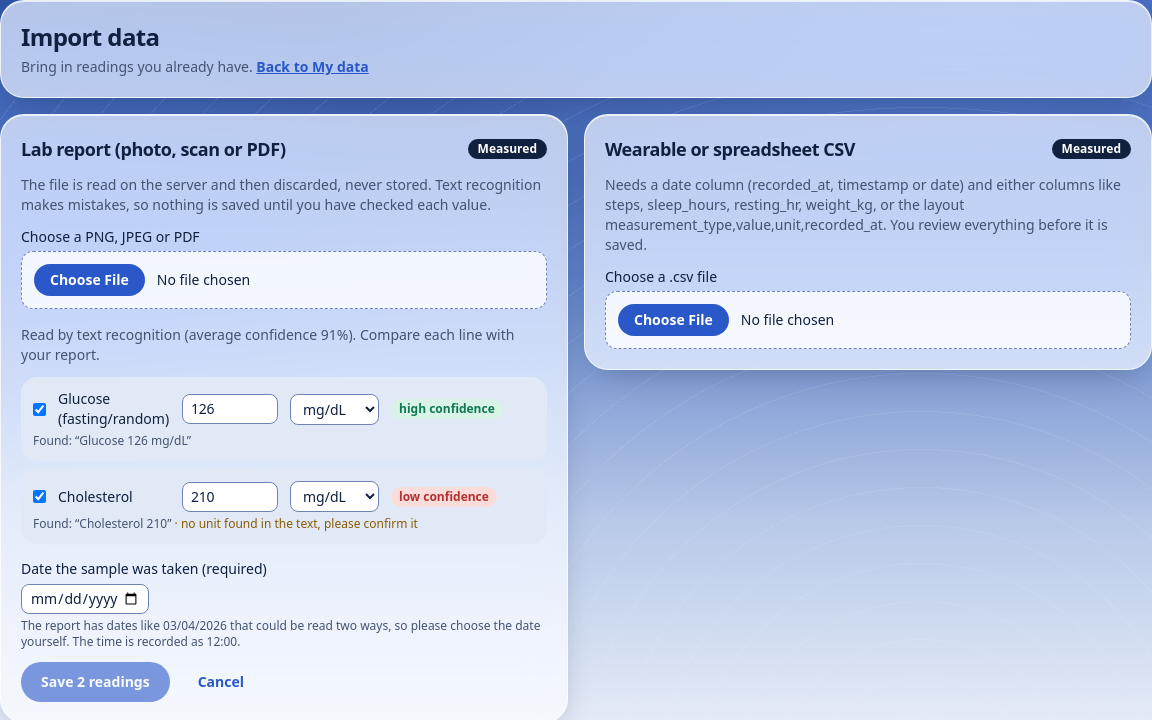
Test: Lab report import › never saves without a date, lets the user correct values, and sends source=ocr
The image size is (1152, 720).
Earlier steps of the test are not shown.
Expected: the text "could be read two ways" is shown, [21,617,540,650]
Expected: the text "· no unit found in the text, please confirm it" is shown, [171,515,418,532]
Type "2026-10-20" into the date field labelled "Date the sample was taken (required)" at [85, 599], box [21,584,149,614]
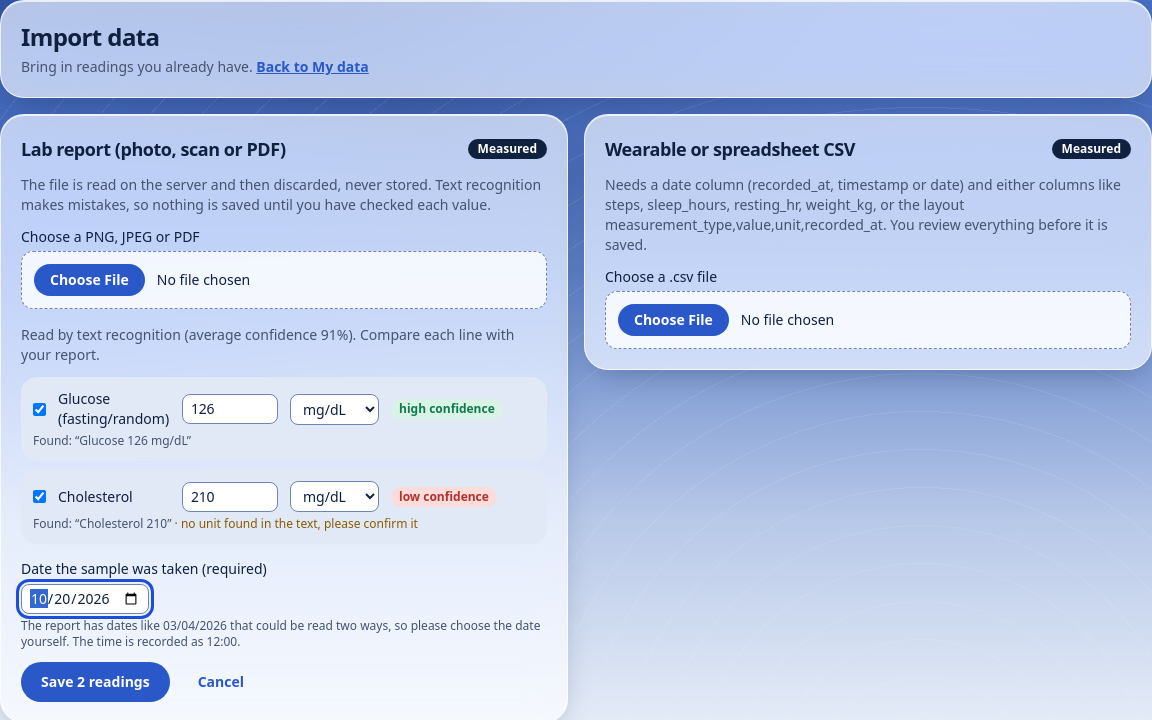
Click the checkbox named "Include Cholesterol" at [40, 496], box [33,490,46,503]
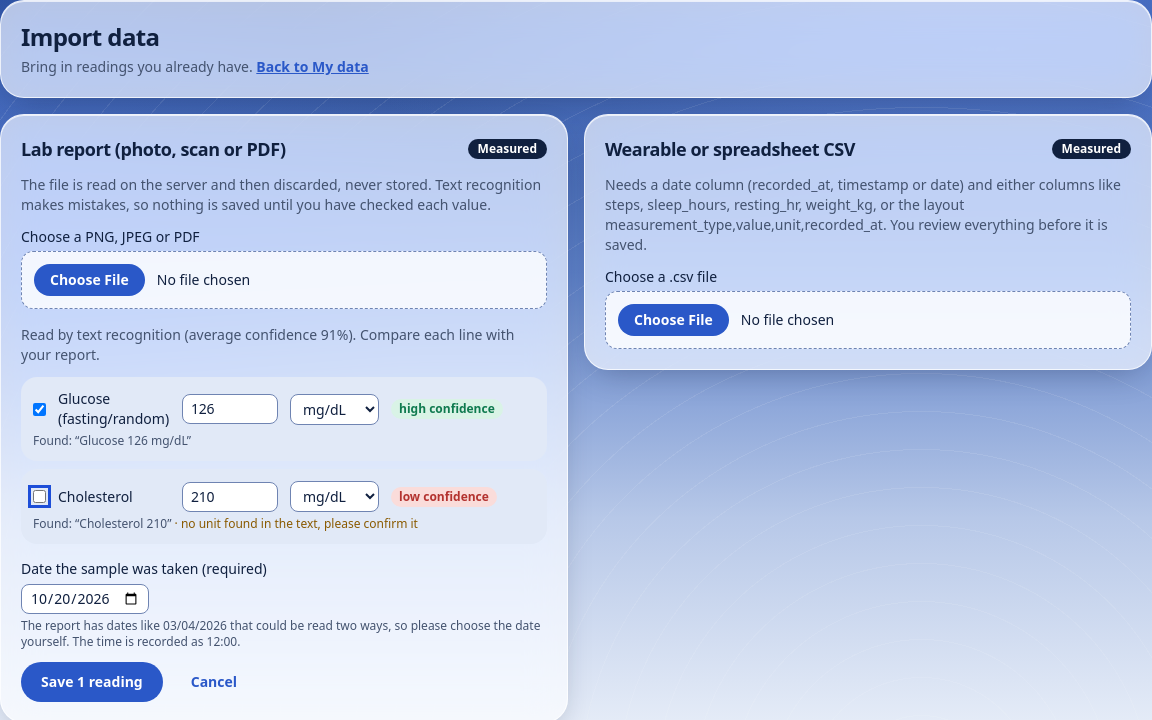
Replace the text in the field named "Glucose (fasting/random) value" with "128" at [230, 409], box [182,394,278,424]
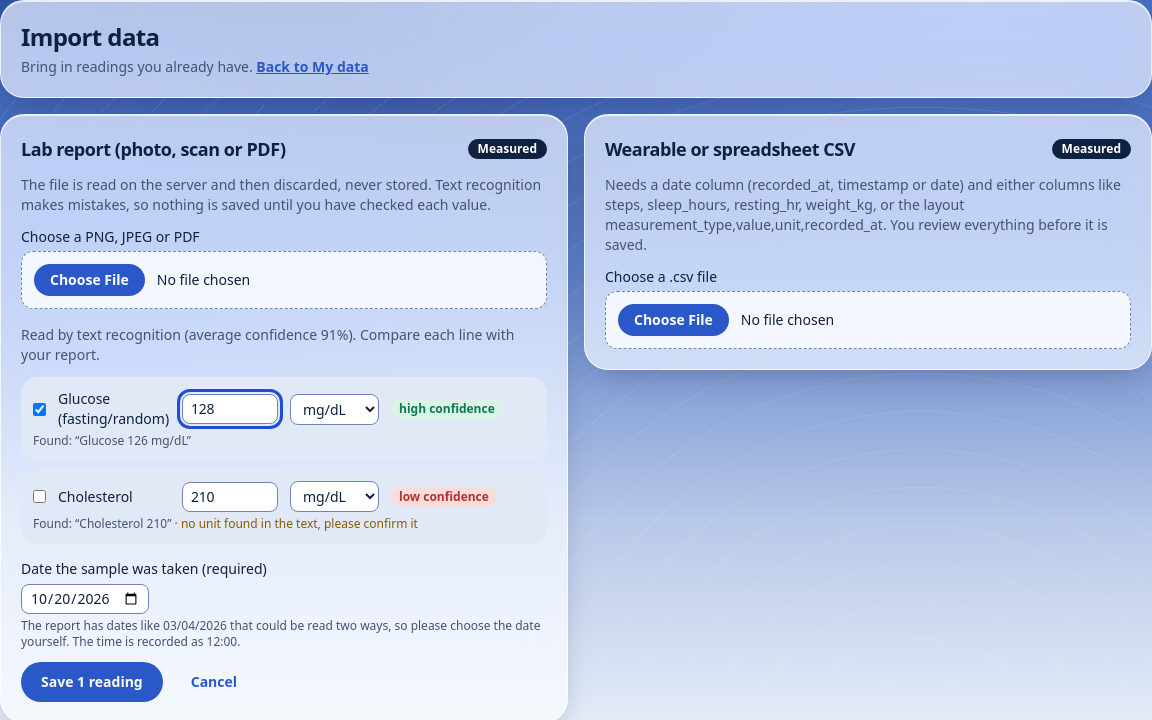
Click the button "Save 1 reading" at [92, 682], box [21,662,163,702]
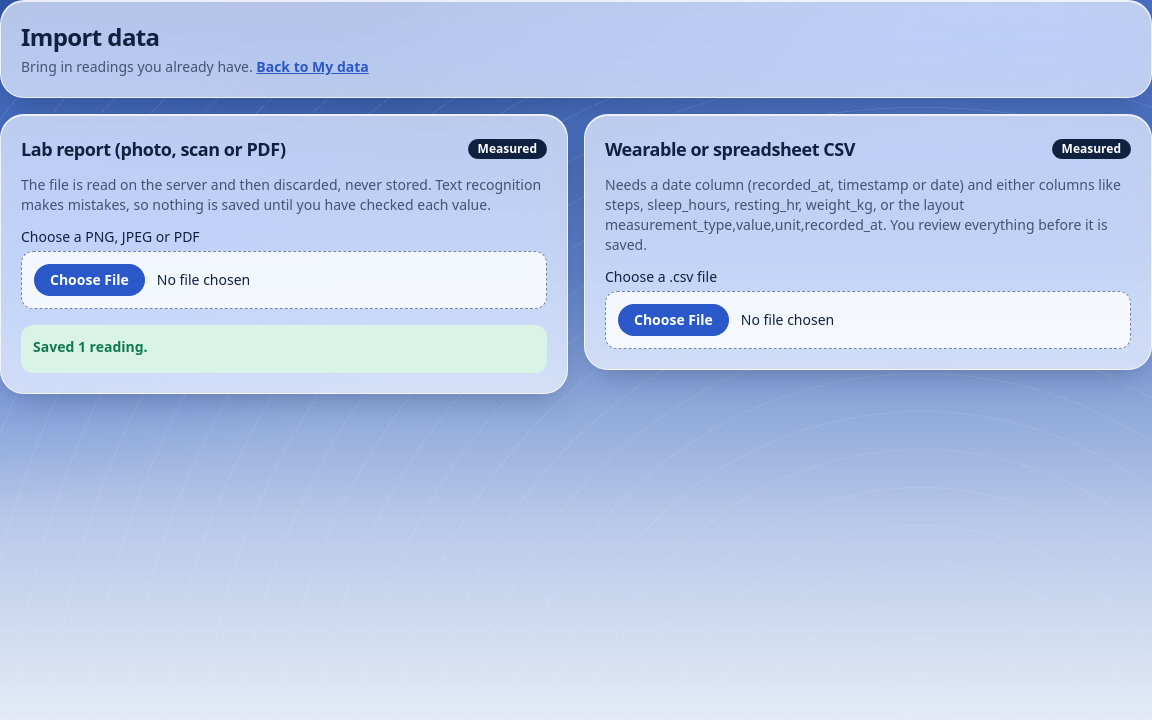
Now the text "Saved 1 reading." is shown, box [33,337,148,356]
